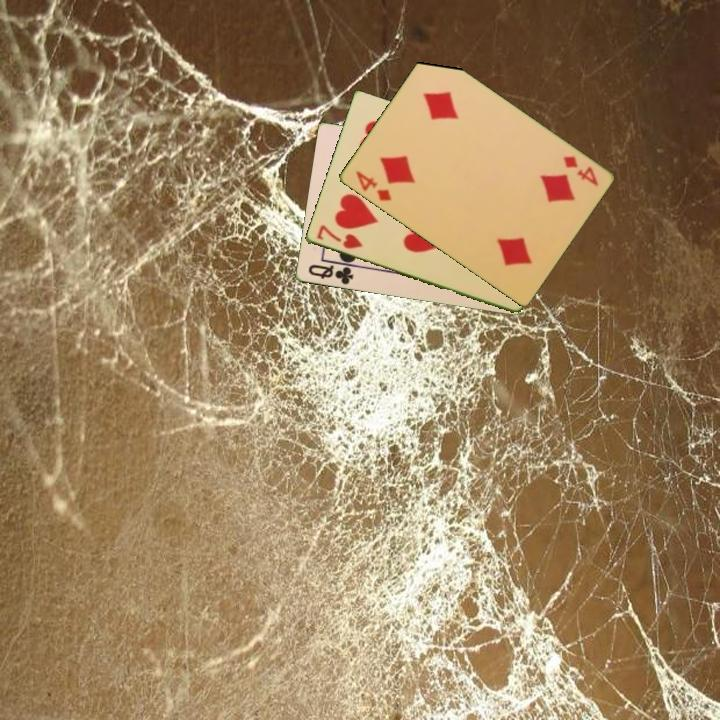4d: (559, 152, 601, 189), (352, 168, 394, 204)
7h: (313, 221, 365, 252)
Qc: (304, 261, 356, 288)
